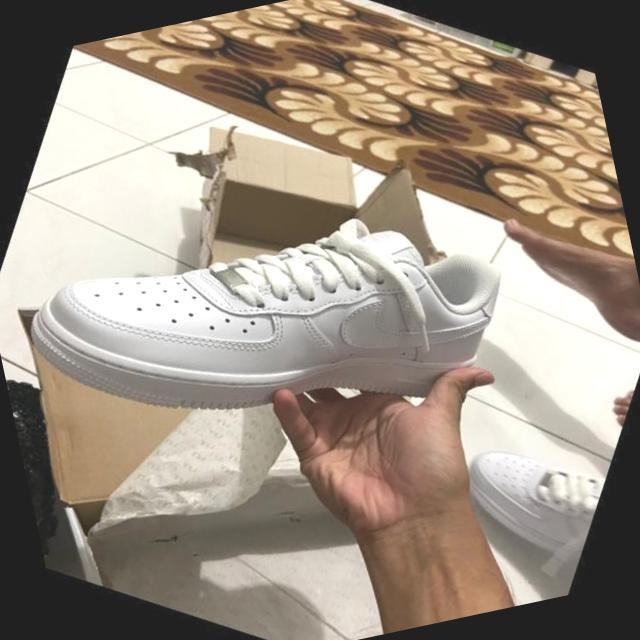nike_original_airforce: (0, 47, 566, 584)
